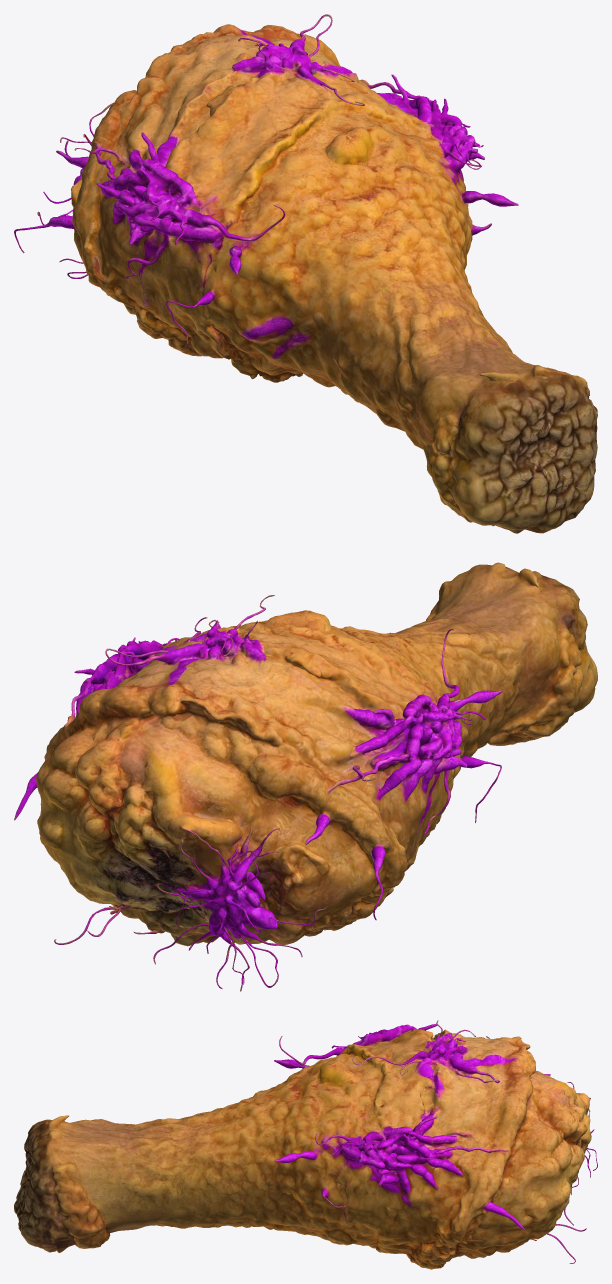
The model's file is Fried_Chicken.glb.
3 renders of one model, top to bottom at view 1: azimuth 30°, elevation 25°; view 2: azimuth 150°, elevation 25°; view 3: azimuth 270°, elevation 25°, orthographic. The views are drawn at different scales.
Visible parts, largest first — view 1: Mesh_0; view 2: Mesh_0; view 3: Mesh_0.
Part boxes in pixels (x1,y1,x2,y2): Mesh_0: [14, 14, 597, 533]; Mesh_0: [14, 562, 597, 991]; Mesh_0: [14, 1020, 597, 1269].
Bounding box in the file's own units: 1.02 × 0.8206 × 1.9.
1 material, 1 textured.
